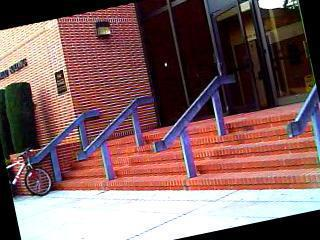Escaleras: (194, 106, 320, 213), (101, 125, 224, 193), (50, 135, 147, 191)
